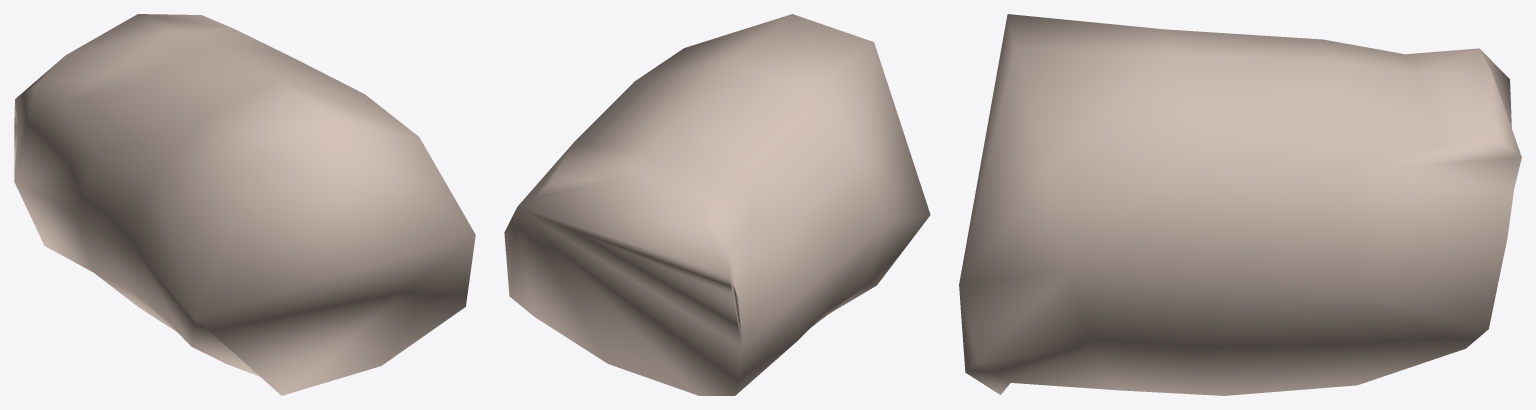
The model's file is LMiddle1stPhalange.dae.
The picture shows the model from 3 angles, left to right: view 1: azimuth 30°, elevation 25°; view 2: azimuth 150°, elevation 25°; view 3: azimuth 270°, elevation 25°; orthographic projection. The views are drawn at different scales.
Visible parts, largest first — view 1: ShapeIndexedFaceSet; view 2: ShapeIndexedFaceSet; view 3: ShapeIndexedFaceSet.
Boxes of the visible parts, x1=… form: ShapeIndexedFaceSet: x1=14, y1=14, x2=475, y2=395; ShapeIndexedFaceSet: x1=504, y1=14, x2=930, y2=395; ShapeIndexedFaceSet: x1=959, y1=14, x2=1521, y2=395.
Bounding box in the file's own units: 0.0211 × 0.0303 × 0.0203.
